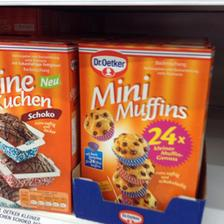Kuchen: (78, 40, 215, 216), (0, 39, 76, 212)
